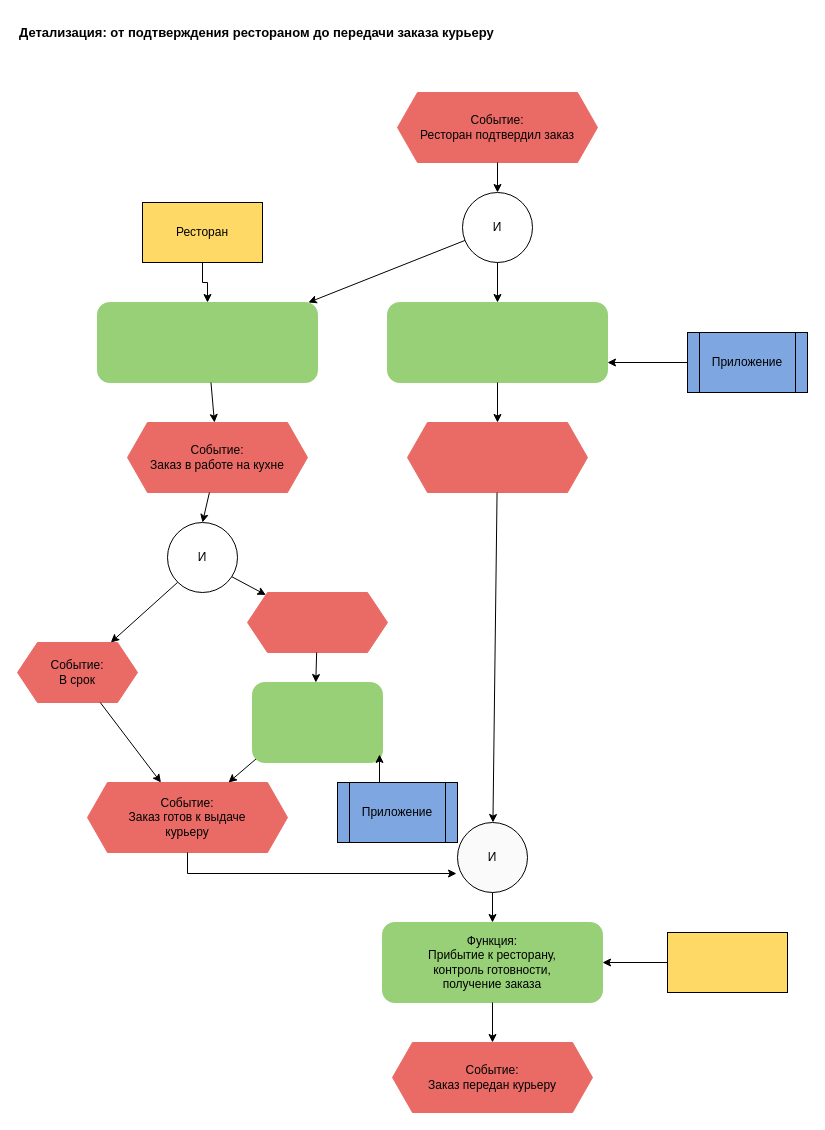
Image size: 825x1130. Some labels were removed from this diagram. Here are the shapes that lost their labels. From the top down, the box of each, then its label:
(96, 302, 318, 382): Функция: Планирование времени приготовления, передача заказа на кухню
(386, 302, 608, 382): Функция: Поиск курьера в зоне
(406, 422, 588, 492): Событие: Курьер назначен
(246, 592, 388, 652): Событие: Задержка кухни
(252, 682, 382, 762): Функция: Отправка push уведомления
(666, 932, 788, 992): Курьер
